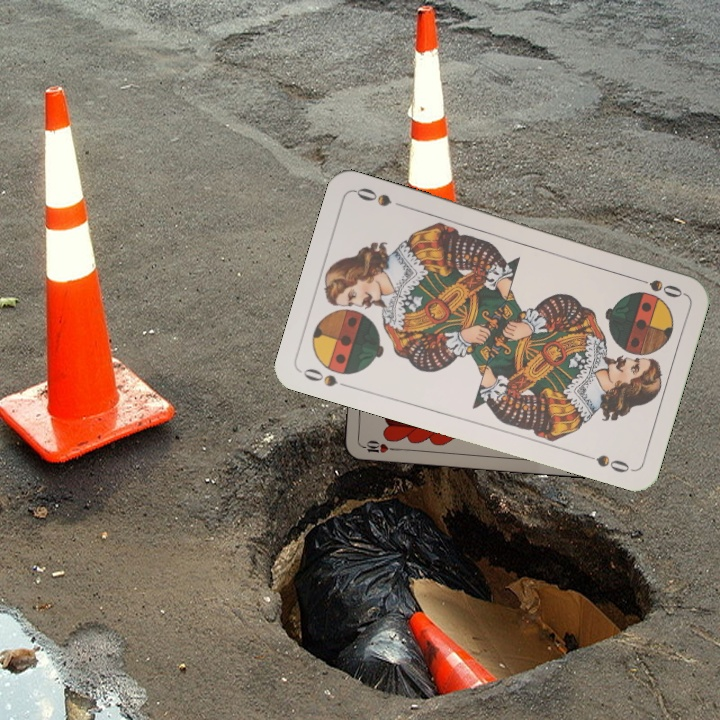H10: (357, 436, 397, 456)
SO: (628, 272, 685, 301), (299, 364, 355, 392)
